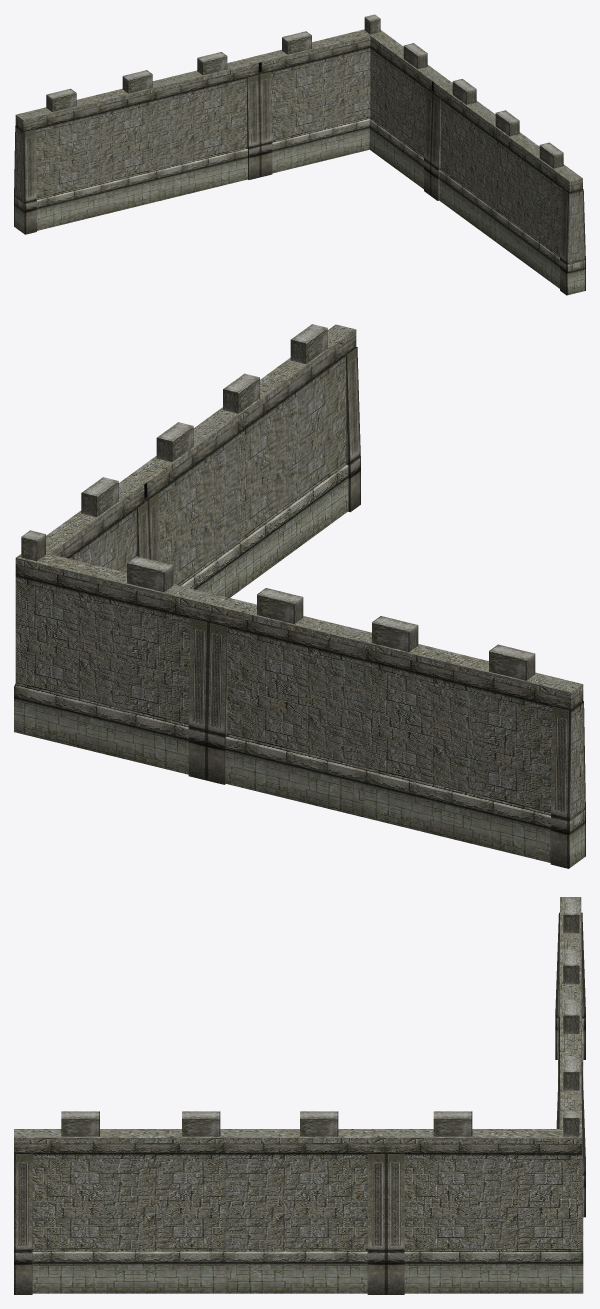
The model's file is ob-bigdam-05.fbx.
The picture shows the model from 3 angles, top to bottom: view 1: azimuth 30°, elevation 25°; view 2: azimuth 150°, elevation 25°; view 3: azimuth 270°, elevation 25°; orthographic projection. The views are drawn at different scales.
Visible parts, largest first — view 1: ob-bigdam-01; view 2: ob-bigdam-01; view 3: ob-bigdam-01.
Part boxes in pixels (x1,y1,x2,y2): ob-bigdam-01: (14, 14, 585, 295); ob-bigdam-01: (14, 324, 585, 868); ob-bigdam-01: (14, 897, 585, 1294).
Size of the model in its own units: 15.44 by 5.14 by 15.37.
